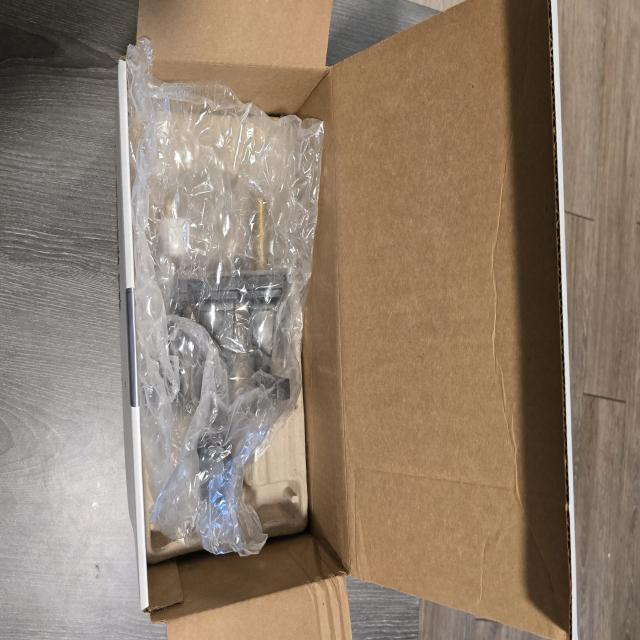9c: (127, 38, 324, 555)
